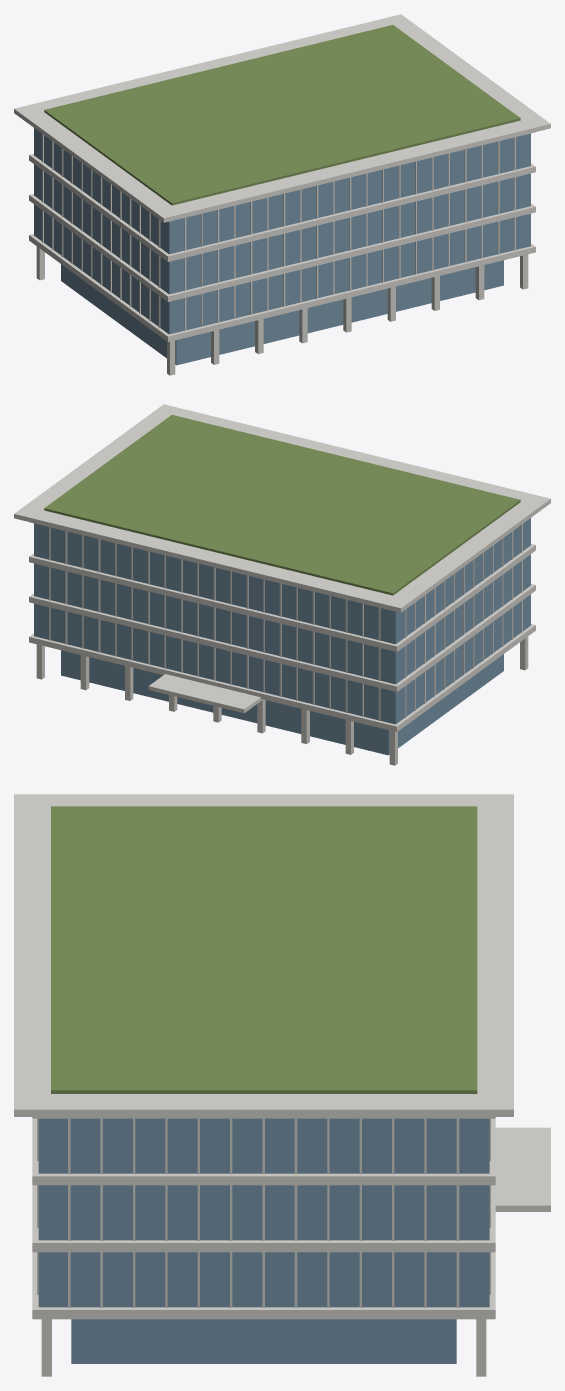
The model's file is google_pavilion4.glb.
3 renders of one model, top to bottom at view 1: azimuth 30°, elevation 25°; view 2: azimuth 150°, elevation 25°; view 3: azimuth 270°, elevation 25°, orthographic. The views are drawn at different scales.
Parts seen in each view (by area): view 1: google_pavilion4; view 2: google_pavilion4; view 3: google_pavilion4.
Part boxes in pixels (x1=…): google_pavilion4: x1=14, y1=14, x2=550, y2=375; google_pavilion4: x1=14, y1=404, x2=550, y2=765; google_pavilion4: x1=14, y1=794, x2=550, y2=1376.
Size of the model in its own units: 36.4 by 15.2 by 26.2.
